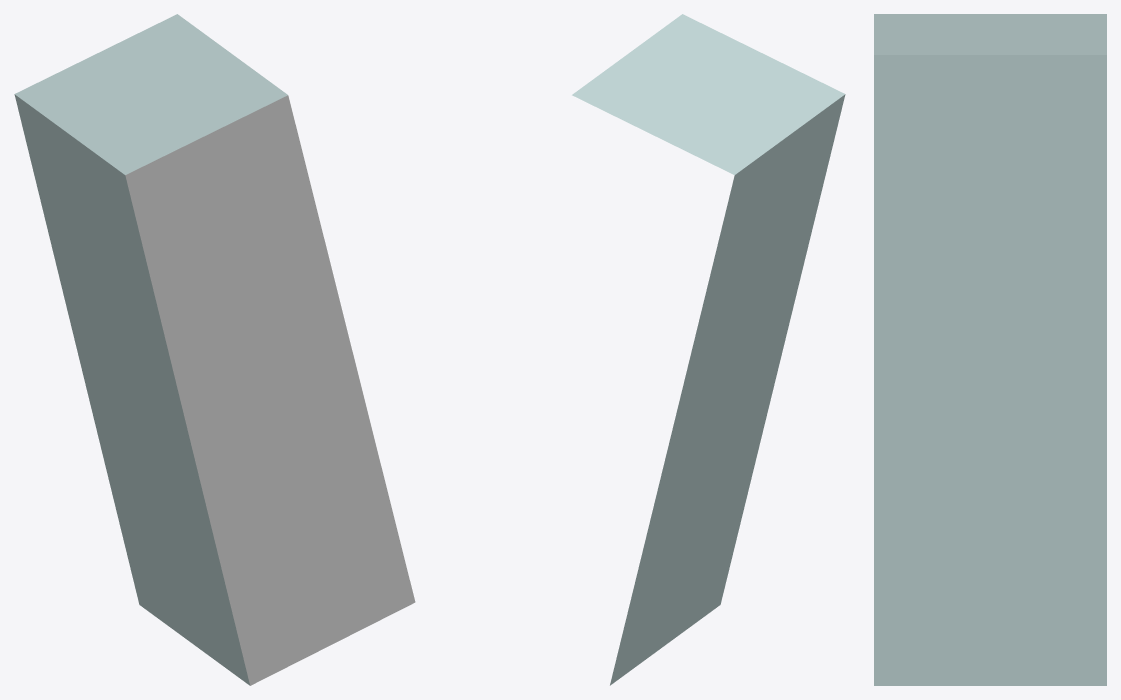
3 views of the same model, side by side, from view 1: azimuth 30°, elevation 25°; view 2: azimuth 150°, elevation 25°; view 3: azimuth 270°, elevation 25° (orthographic). The views are drawn at different scales.
Visible parts, largest first — view 1: 0_1_2_1_1_3_3_2; view 2: 0_1_2_1_1_3_3_2; view 3: 0_1_2_1_1_3_3_2.
Part boxes in pixels (<box>): 0_1_2_1_1_3_3_2: <box>14,14,415,685</box>; 0_1_2_1_1_3_3_2: <box>572,14,845,685</box>; 0_1_2_1_1_3_3_2: <box>874,14,1106,685</box>.
Bounding box in the file's own units: 4.54 × 8.69 × 3.
